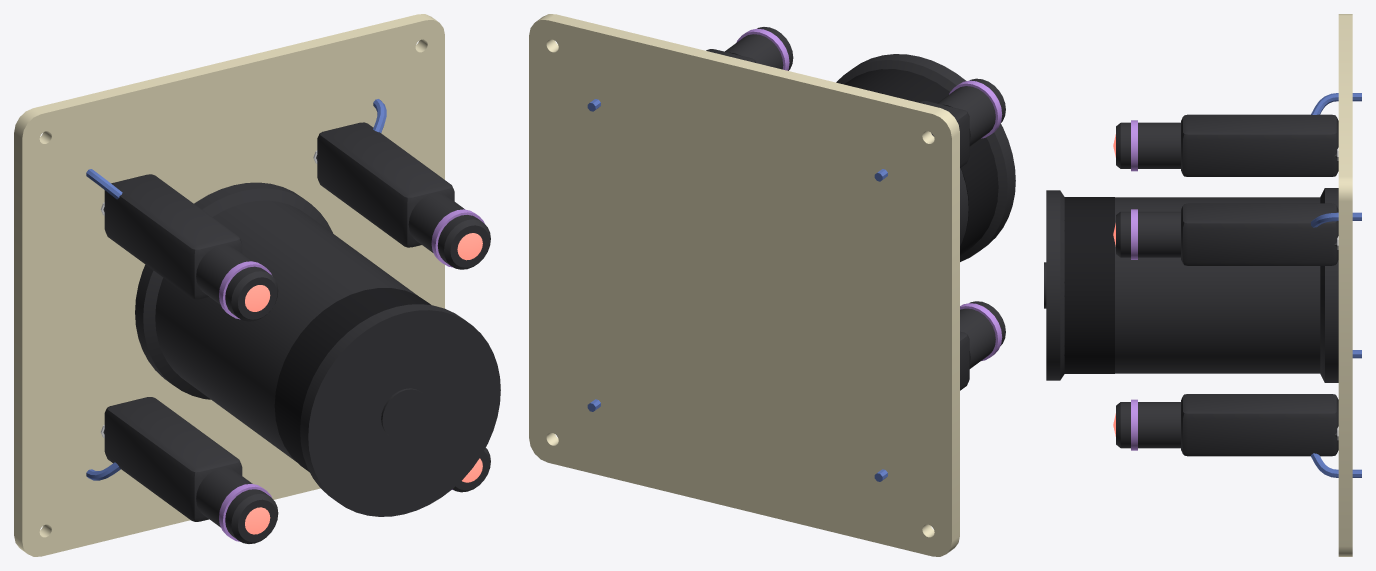
The model's file is laser_reflectometer.glb.
3 renders of one model, left to right at view 1: azimuth 30°, elevation 25°; view 2: azimuth 150°, elevation 25°; view 3: azimuth 270°, elevation 25°, orthographic. The views are drawn at different scales.
Parts seen in each view (by area): view 1: laser_reflectometer; view 2: laser_reflectometer; view 3: laser_reflectometer.
Part boxes in pixels (<box>): laser_reflectometer: <box>14,14,500,556</box>; laser_reflectometer: <box>529,14,1015,556</box>; laser_reflectometer: <box>1044,14,1361,556</box>.
Bounding box in the file's own units: 0.09 × 0.09 × 0.0685.
